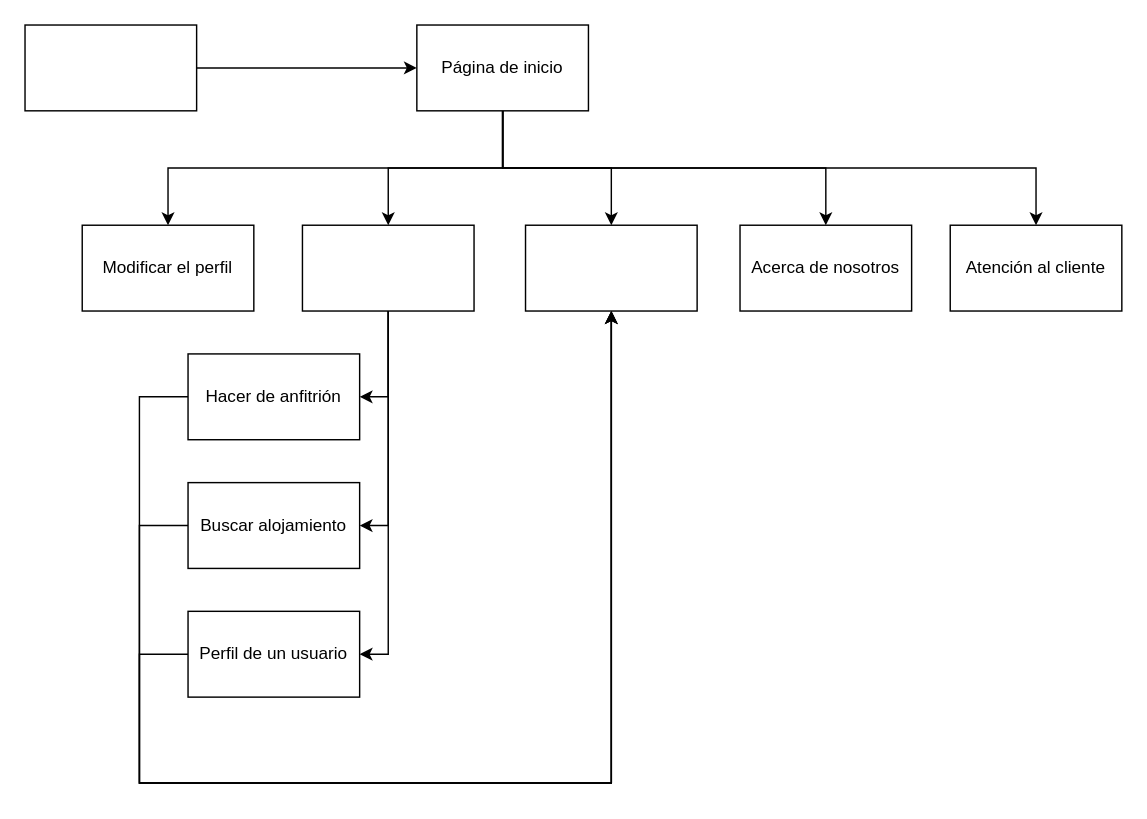
This 1147x819 diagram has some shape labels left out. The shapes that lost their labels are listed below. From the top down, each one's box as (x1, y1, x2, y2) in pixels, then its label:
(24, 24, 197, 111): Registro o inicio de sesión
(301, 224, 474, 311): Explorar
(524, 224, 697, 311): Chat con usuarios
